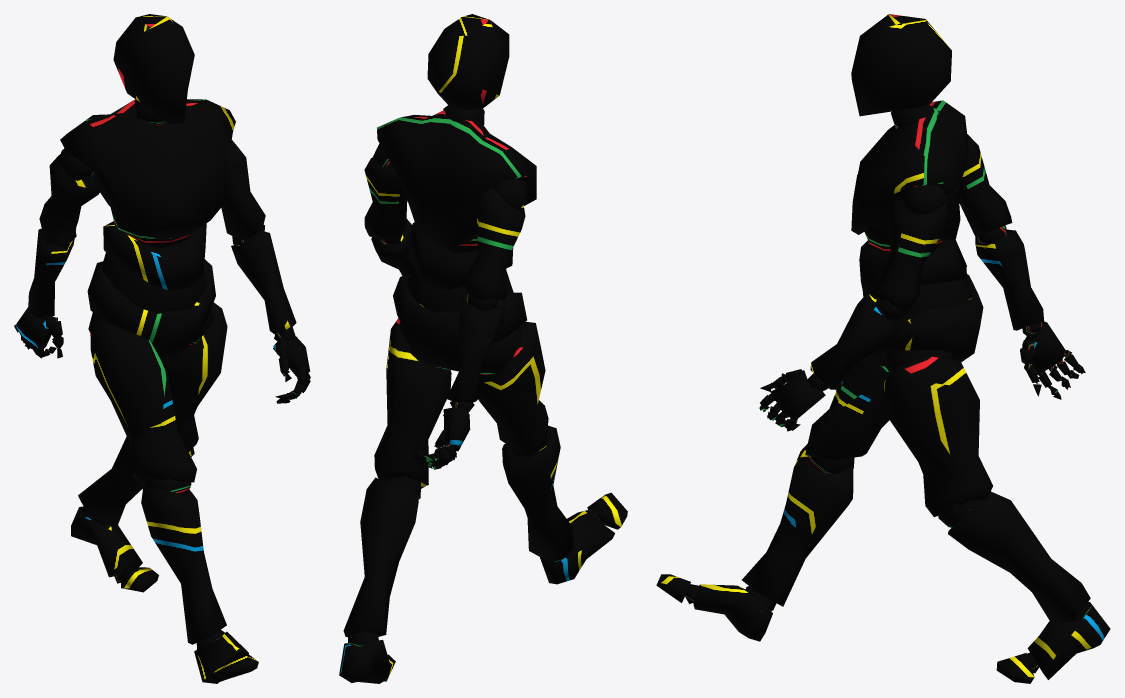
Rendered from y-bot-origin_000006.obj.
3 views of the same model, side by side, from view 1: azimuth 30°, elevation 25°; view 2: azimuth 150°, elevation 25°; view 3: azimuth 270°, elevation 25° (orthographic). The views are drawn at different scales.
Visible parts, largest first — view 1: Alpha_Surface_Alpha_SurfaceMesh, Alpha_Joints_Alpha_JointsMesh; view 2: Alpha_Surface_Alpha_SurfaceMesh, Alpha_Joints_Alpha_JointsMesh; view 3: Alpha_Surface_Alpha_SurfaceMesh, Alpha_Joints_Alpha_JointsMesh.
Part boxes in pixels (left/top/right/bottom): Alpha_Surface_Alpha_SurfaceMesh: left=15, top=14, right=310, bottom=683; Alpha_Joints_Alpha_JointsMesh: left=14, top=99, right=310, bottom=659; Alpha_Surface_Alpha_SurfaceMesh: left=339, top=14, right=627, bottom=683; Alpha_Joints_Alpha_JointsMesh: left=347, top=105, right=599, bottom=646; Alpha_Surface_Alpha_SurfaceMesh: left=656, top=14, right=1110, bottom=683; Alpha_Joints_Alpha_JointsMesh: left=685, top=104, right=1091, bottom=673.
Size of the model in its own units: 0.5379 by 1.74 by 1.12.
